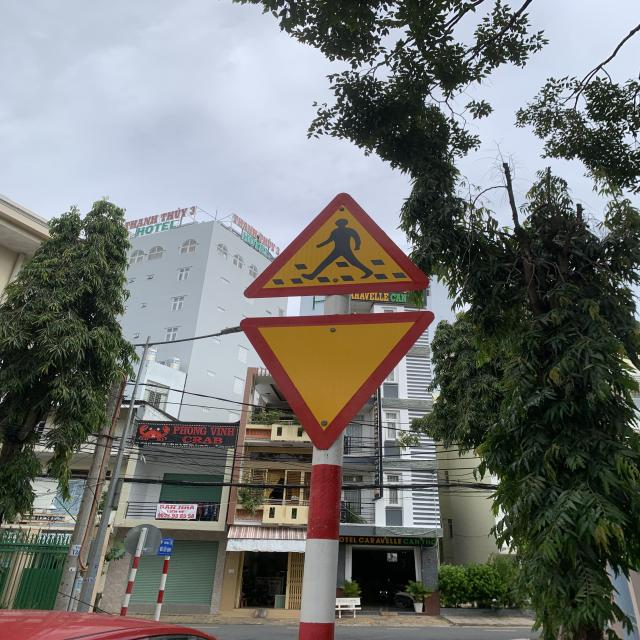Duong_Nguoi_Di_Bo_Sang_Ngang: (244, 188, 438, 299)
Gioi_Han_Toc_Do_25: (233, 312, 436, 449)
